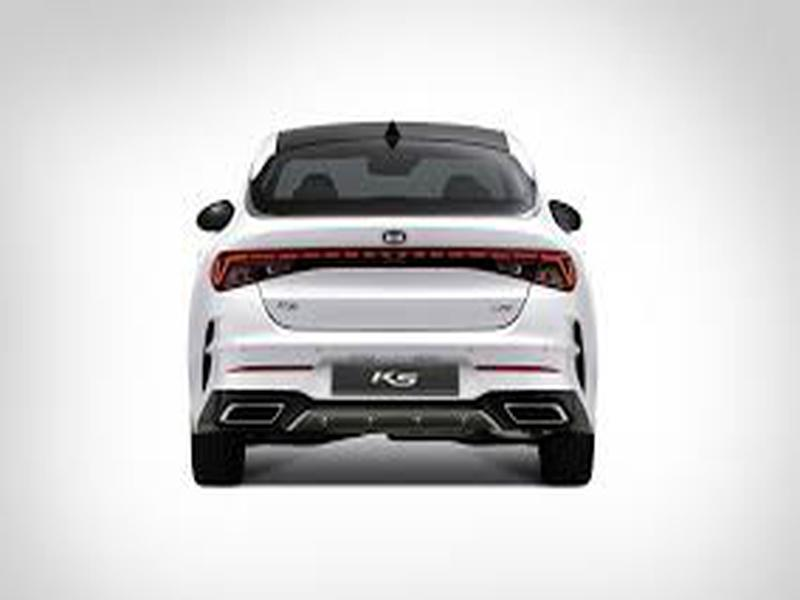car: (180, 121, 601, 491)
